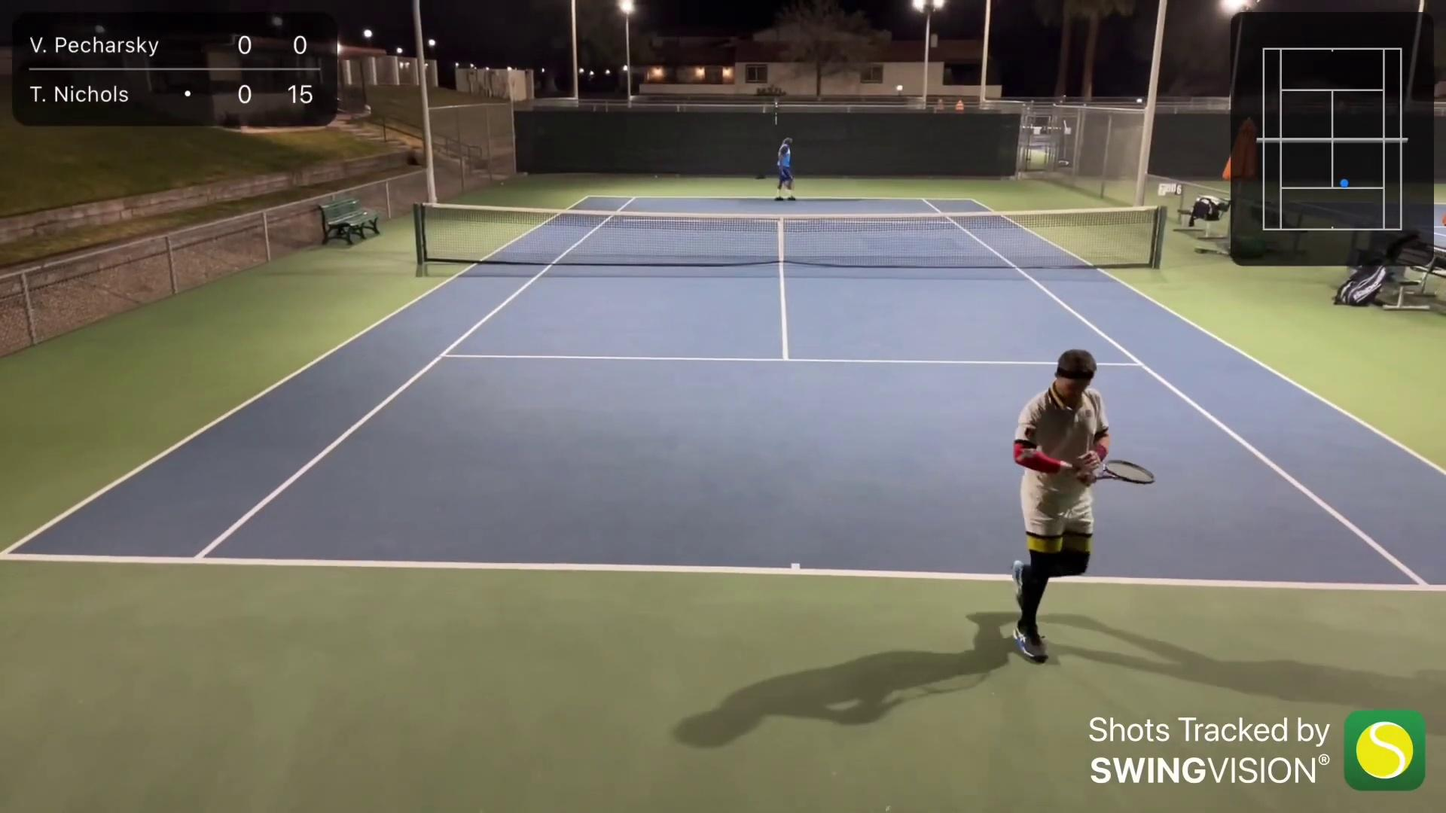ball: (499, 181, 505, 187)
